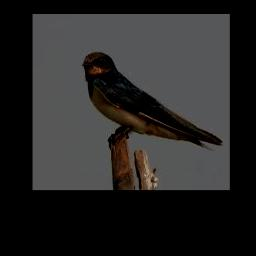Swallow: (83, 53, 223, 148)
